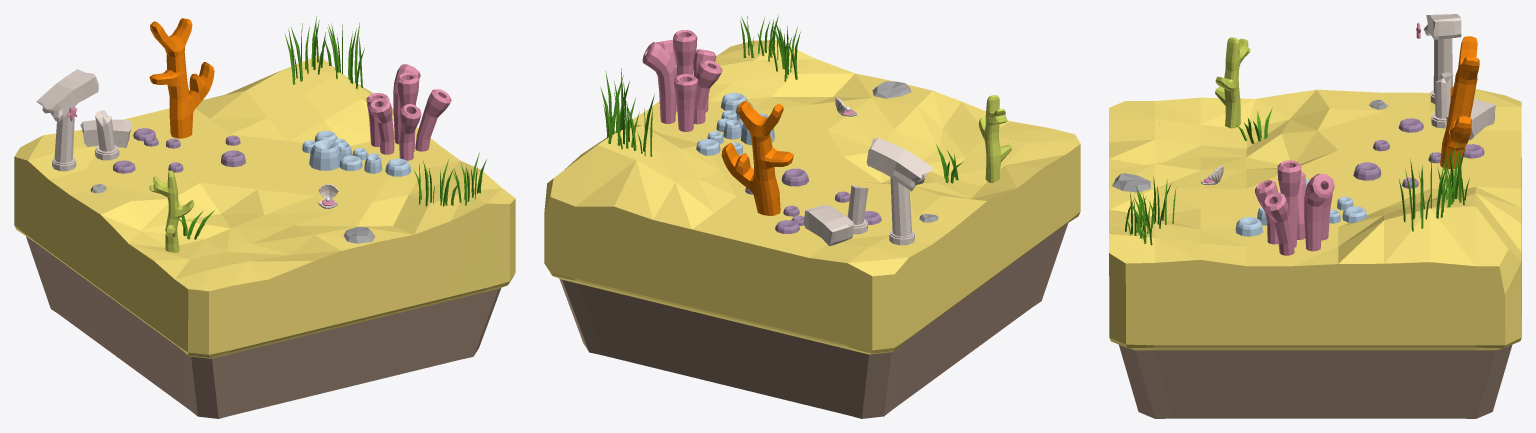
The model's file is change.glb.
3 views of the same model, side by side, from view 1: azimuth 30°, elevation 25°; view 2: azimuth 150°, elevation 25°; view 3: azimuth 270°, elevation 25° (orthographic). The views are drawn at different scales.
Visible parts, largest first — view 1: Isl20_Base, Isl20_Coral_1, Isl20_Brocken_Monument, Isl20_Coral_2, Isl20_Coral_4, Isl20_Seaweed_3, Isl20_Coral_3, Isl20_Seaweed_2; view 2: Isl20_Base, Isl20_Brocken_Monument, Isl20_Coral_1, Isl20_Coral_2, Isl20_Coral_4, Isl20_Seaweed_3, Isl20_Coral_3, Isl20_Seaweed_2; view 3: Isl20_Base, Isl20_Coral_1, Isl20_Brocken_Monument, Isl20_Coral_2, Isl20_Seaweed_3, Isl20_Coral_3, Isl20_Seaweed_2, Isl20_Coral_4, Isl20_Seaweed_1.
Boxes of the visible parts, box(x1,y1,x2,y2) form: Isl20_Base: box(14, 55, 515, 418); Isl20_Coral_1: box(366, 64, 451, 160); Isl20_Brocken_Monument: box(36, 69, 131, 171); Isl20_Coral_2: box(149, 18, 214, 138); Isl20_Coral_4: box(302, 131, 411, 176); Isl20_Seaweed_3: box(284, 16, 364, 89); Isl20_Coral_3: box(149, 170, 194, 252); Isl20_Seaweed_2: box(413, 152, 486, 206); Isl20_Base: box(544, 40, 1080, 418); Isl20_Brocken_Monument: box(803, 137, 932, 246); Isl20_Coral_1: box(642, 30, 722, 131); Isl20_Coral_2: box(721, 101, 793, 215); Isl20_Coral_4: box(696, 92, 774, 155); Isl20_Seaweed_3: box(600, 68, 654, 156); Isl20_Coral_3: box(978, 95, 1012, 182); Isl20_Seaweed_2: box(740, 15, 800, 81); Isl20_Base: box(1109, 89, 1521, 418); Isl20_Coral_1: box(1255, 160, 1334, 255); Isl20_Brocken_Monument: box(1423, 14, 1495, 140); Isl20_Coral_2: box(1440, 36, 1479, 169); Isl20_Seaweed_3: box(1399, 134, 1469, 231); Isl20_Coral_3: box(1215, 37, 1250, 128); Isl20_Seaweed_2: box(1125, 177, 1176, 245); Isl20_Coral_4: box(1235, 179, 1367, 236); Isl20_Seaweed_1: box(1236, 108, 1272, 143).
Bounding box in the file's own units: 20.28 × 15.41 × 20.01.
1 material, 1 textured.
